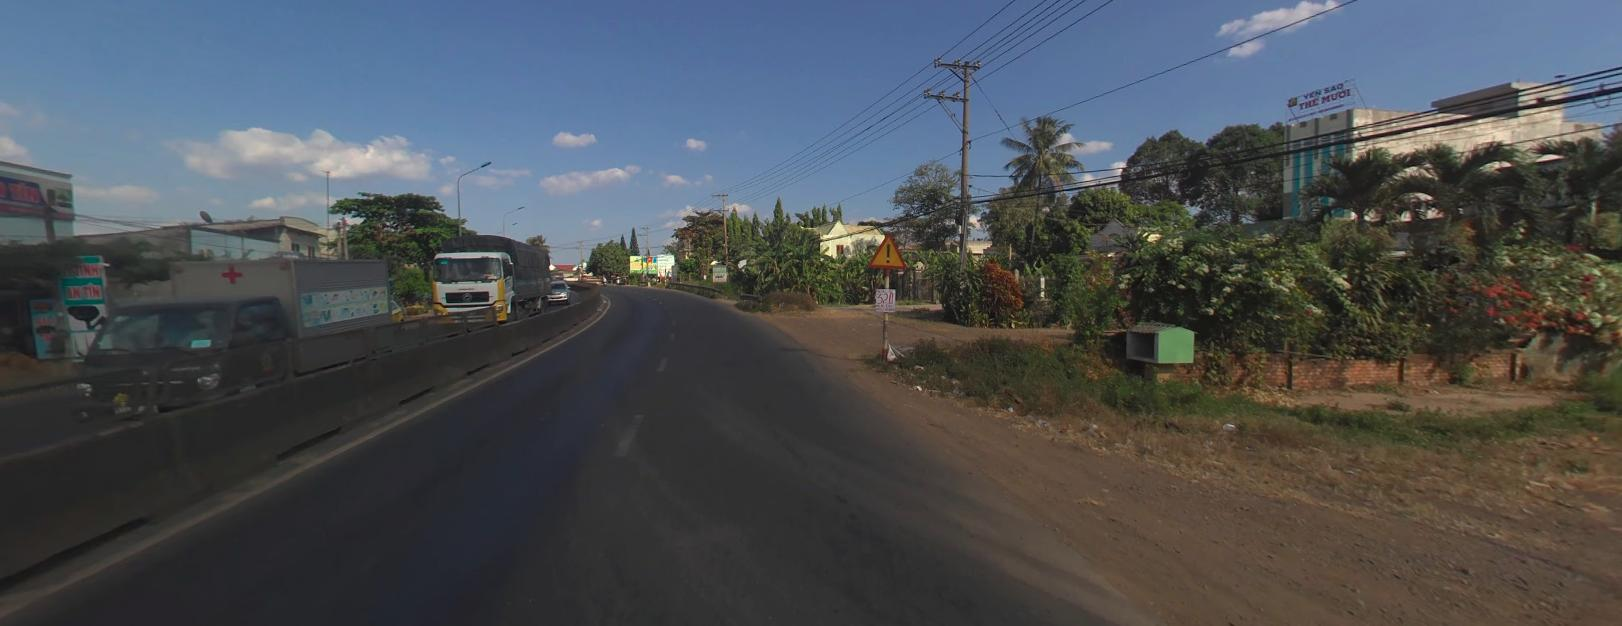Nguy hiem: (866, 228, 907, 269)
